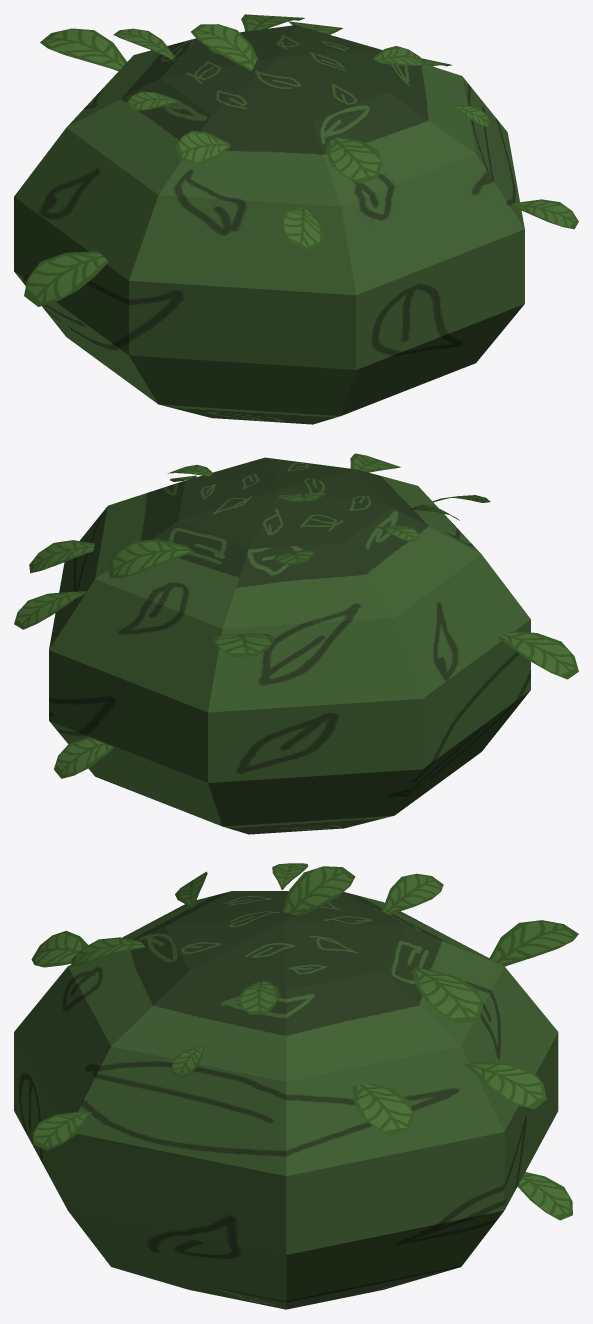
The model's file is bush.fbx.
The picture shows the model from 3 angles, top to bottom: view 1: azimuth 30°, elevation 25°; view 2: azimuth 150°, elevation 25°; view 3: azimuth 270°, elevation 25°; orthographic projection. The views are drawn at different scales.
Visible parts, largest first — view 1: pSphere1, pPlane14, pPlane11, pPlane7, pPlane9, pPlane6, pPlane10, pPlane5, pPlane12, pPlane3, pPlane13, pPlane16; view 2: pSphere1, pPlane14, pPlane16, pPlane15, pPlane17, pPlane8, pPlane11, pPlane7; view 3: pSphere1, pPlane16, pPlane11, pPlane17, pPlane8, pPlane9, pPlane12, pPlane15, pPlane5, pPlane6, pPlane7, pPlane3 (+3 smaller).
Boxes of the visible parts, <box> form: pSphere1: <box>14,25,524,424</box>; pPlane14: <box>24,251,108,306</box>; pPlane11: <box>40,28,126,71</box>; pPlane7: <box>326,136,381,183</box>; pPlane9: <box>191,24,258,71</box>; pPlane6: <box>281,205,324,249</box>; pPlane10: <box>175,130,230,163</box>; pPlane5: <box>511,199,578,229</box>; pPlane12: <box>113,28,175,59</box>; pPlane3: <box>373,46,425,65</box>; pPlane13: <box>126,91,181,110</box>; pPlane16: <box>241,14,304,31</box>; pSphere1: <box>49,457,530,834</box>; pPlane14: <box>497,631,578,679</box>; pPlane16: <box>107,539,194,578</box>; pPlane15: <box>54,737,114,778</box>; pPlane17: <box>14,591,86,629</box>; pPlane8: <box>29,540,94,573</box>; pPlane11: <box>212,633,275,656</box>; pPlane7: <box>350,453,400,472</box>; pSphere1: <box>14,891,558,1309</box>; pPlane16: <box>411,967,482,1023</box>; pPlane11: <box>489,920,578,966</box>; pPlane17: <box>464,1062,546,1109</box>; pPlane8: <box>352,1083,413,1135</box>; pPlane9: <box>282,866,355,916</box>; pPlane12: <box>381,873,443,915</box>; pPlane15: <box>517,1172,572,1220</box>; pPlane5: <box>33,1111,92,1150</box>; pPlane6: <box>31,930,87,967</box>; pPlane7: <box>71,937,145,966</box>; pPlane3: <box>238,980,279,1014</box>.
Bounding box in the file's own units: 6.88 × 4.62 × 6.29.
